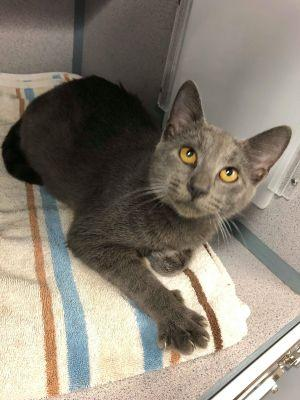rblue: (143, 73, 293, 241)
